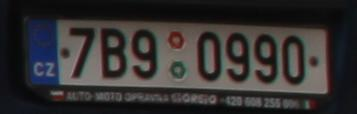0: (197, 31, 222, 81), (282, 34, 305, 84)
7: (70, 27, 95, 77)
9: (226, 31, 250, 82), (133, 29, 157, 79), (255, 33, 277, 85)
B: (101, 27, 127, 77)
